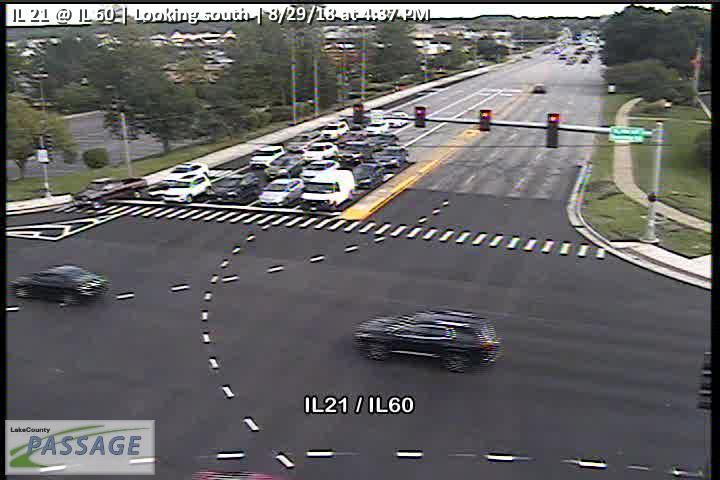SUV: (297, 168, 355, 213)
Sedan: (354, 308, 502, 373), (10, 263, 110, 305), (71, 175, 148, 210), (162, 172, 213, 204), (206, 173, 258, 204), (257, 177, 303, 207), (159, 160, 210, 185), (265, 153, 302, 180), (299, 139, 338, 164), (247, 146, 286, 169), (284, 129, 323, 152), (371, 146, 406, 171), (349, 163, 385, 187), (337, 142, 375, 163), (333, 128, 369, 148), (319, 119, 349, 139), (369, 131, 399, 149), (361, 120, 389, 135), (386, 110, 408, 129)
